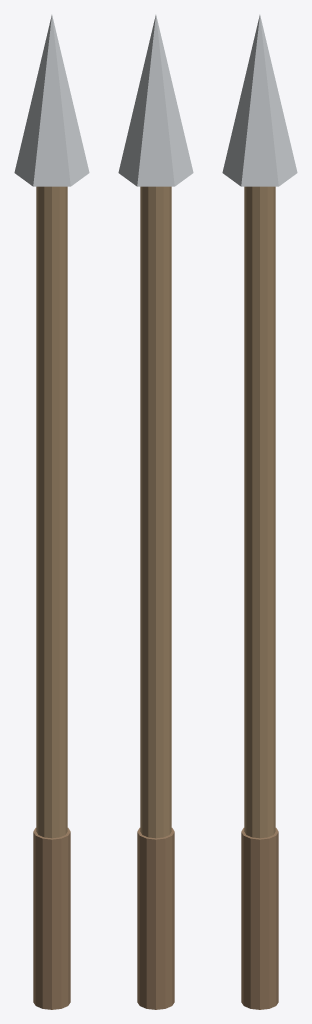
File: wpn_spear.glb
3 views of the same model, side by side, from view 1: azimuth 90°, elevation 25°; view 2: azimuth 150°, elevation 25°; view 3: azimuth 270°, elevation 25° (orthographic).
Visible parts, largest first — view 1: wpn_spear; view 2: wpn_spear; view 3: wpn_spear.
Part boxes in pixels (left/top/right/bottom): wpn_spear: left=14, top=15, right=89, bottom=1009; wpn_spear: left=118, top=15, right=193, bottom=1009; wpn_spear: left=222, top=15, right=297, bottom=1009.
Bounding box in the file's own units: 0.1039 × 1.74 × 0.12.
